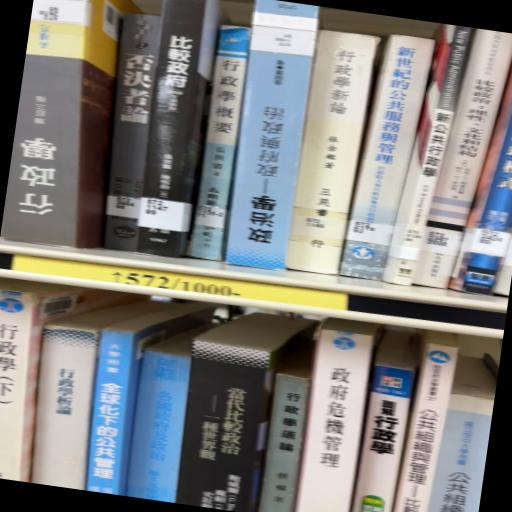reverse: (5, 1, 140, 249), (226, 1, 315, 270)
